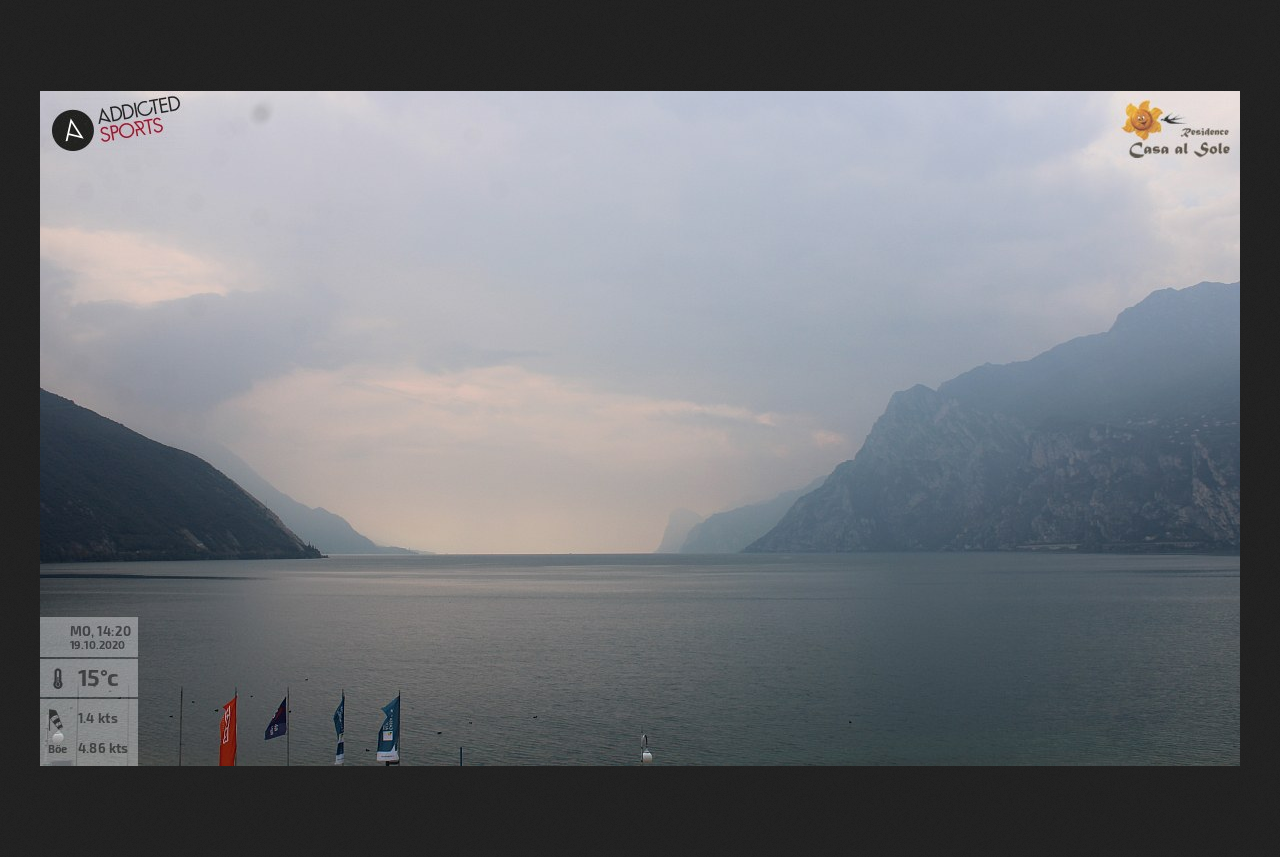maybe: (261, 695, 290, 741)
